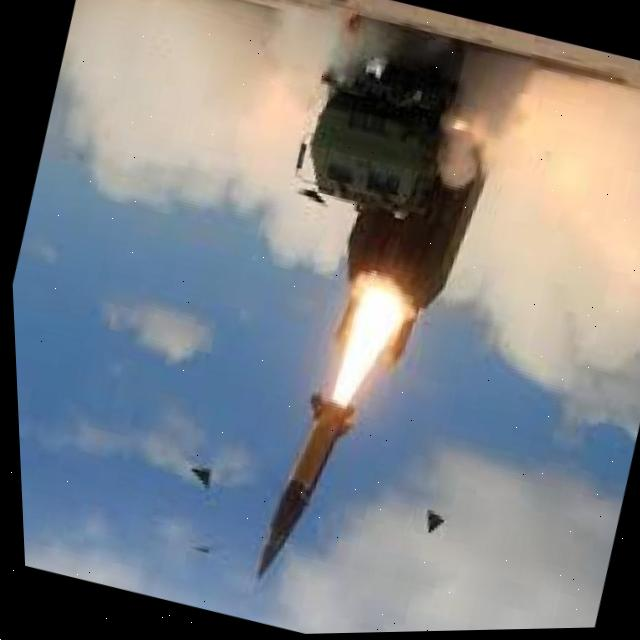missile: (196, 369, 367, 598)
